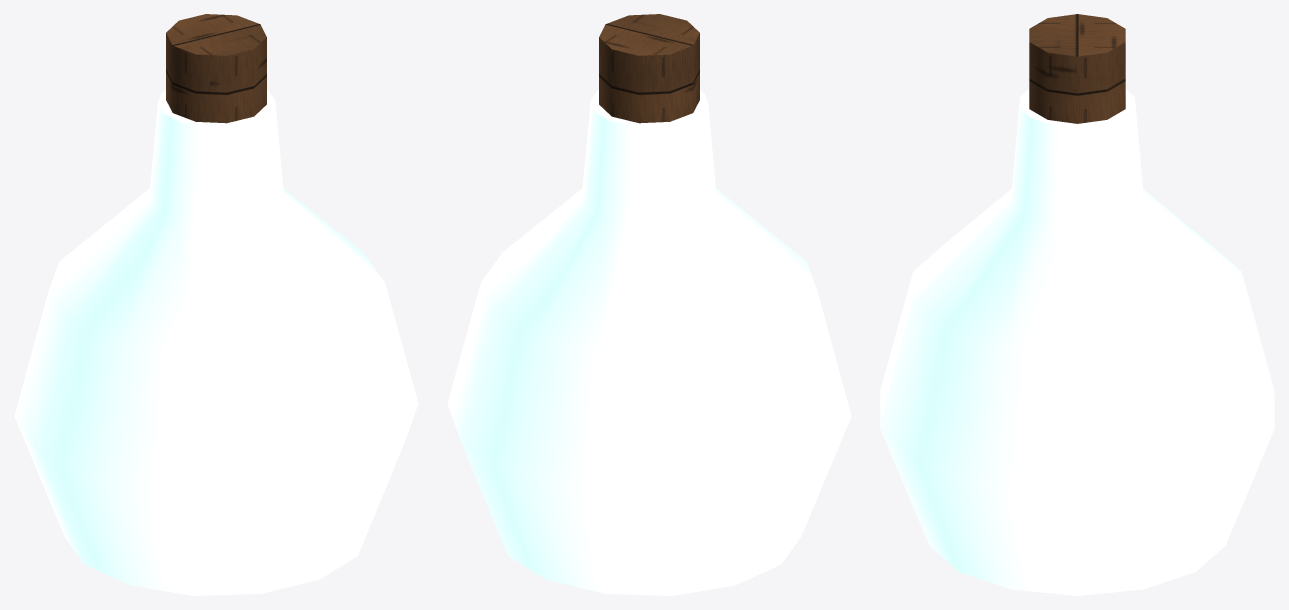
Rendered from tonic.glb.
3 views of the same model, side by side, from view 1: azimuth 30°, elevation 25°; view 2: azimuth 150°, elevation 25°; view 3: azimuth 270°, elevation 25° (orthographic).
Parts seen in each view (by area): view 1: tonic; view 2: tonic; view 3: tonic.
Part boxes in pixels (x1,y1,x2,y2): tonic: (14, 14, 418, 595); tonic: (447, 14, 851, 595); tonic: (880, 14, 1274, 595).
Bounding box in the file's own units: 0.24 × 0.345 × 0.234.
2 materials, 1 textured.
